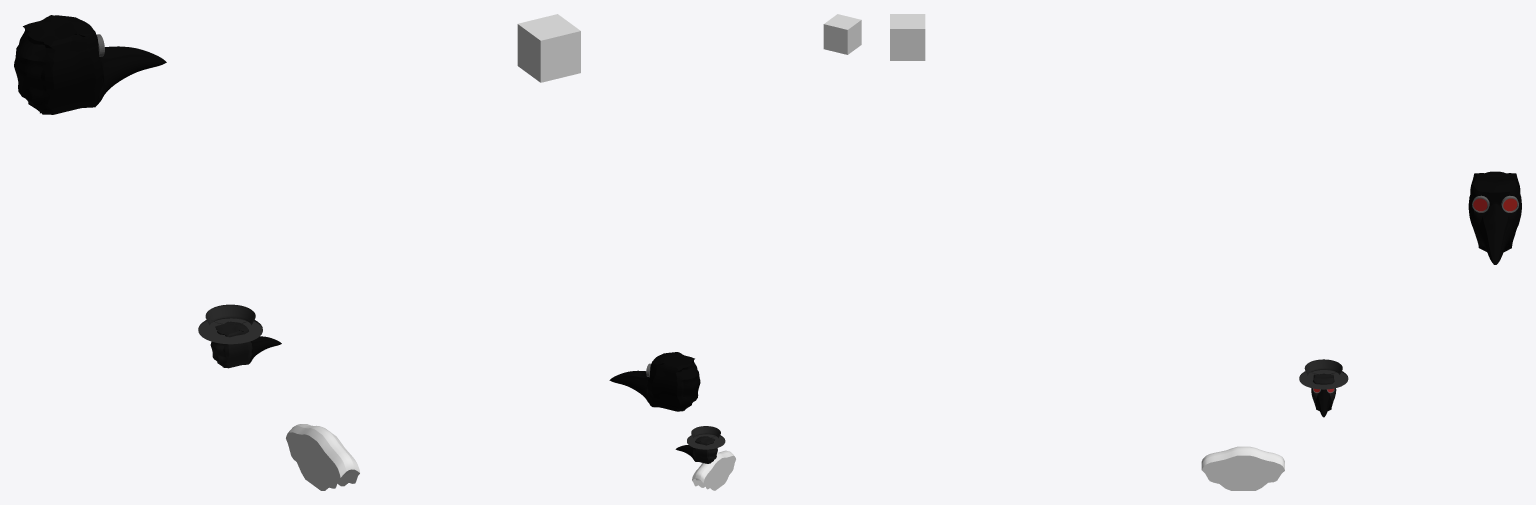
File: Pestilence cloak.fbx
3 renders of one model, left to right at view 1: azimuth 30°, elevation 25°; view 2: azimuth 150°, elevation 25°; view 3: azimuth 270°, elevation 25°, orthographic. The views are drawn at different scales.
Parts seen in each view (by area): view 1: HEad.001, Cube, Cube.001, Beak.001, Hat, HEad; view 2: HEad.001, Cube, Cube.001, Beak.001, Hat, HEad; view 3: Cube.001, HEad.001, Cube, Beak.001, Hat.
Part boxes in pixels (x1,y1,x2,y2): HEad.001: [14, 15, 103, 114]; Cube: [517, 14, 580, 82]; Cube.001: [286, 424, 359, 490]; Beak.001: [96, 46, 166, 104]; Hat: [198, 304, 262, 344]; HEad: [210, 321, 252, 368]; HEad.001: [647, 352, 700, 411]; Cube: [823, 14, 861, 54]; Cube.001: [692, 450, 735, 490]; Beak.001: [609, 370, 650, 402]; Hat: [687, 426, 725, 449]; HEad: [693, 436, 717, 463]; Cube.001: [1201, 446, 1284, 490]; HEad.001: [1468, 171, 1521, 252]; Cube: [890, 14, 925, 60]; Beak.001: [1477, 203, 1512, 264]; Hat: [1299, 359, 1348, 389].
Bounding box in the file's own units: 814 × 2926 × 3583.
